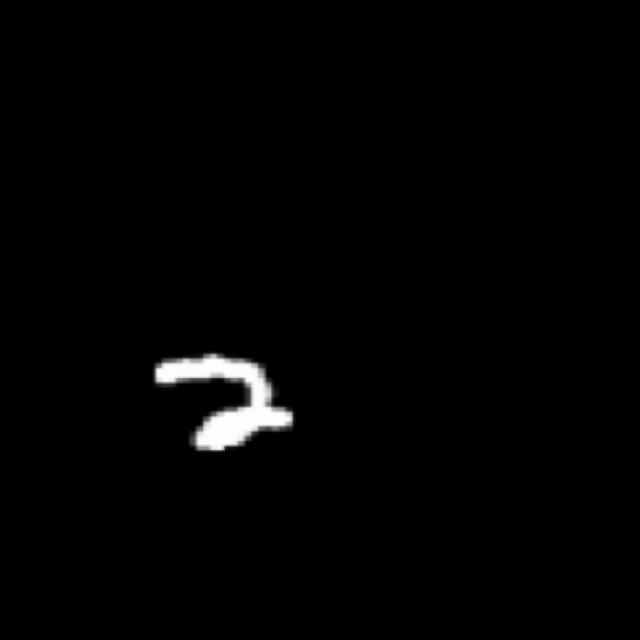two -2-: (148, 340, 314, 460)
